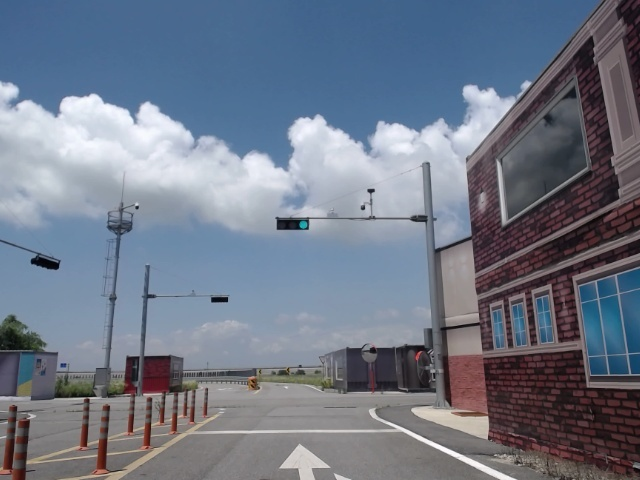green_3: (278, 220, 308, 230)
